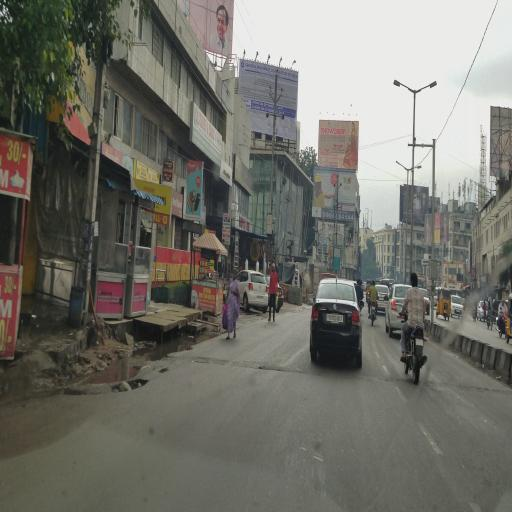street_light_0: (412, 79, 444, 107), (389, 72, 413, 98), (388, 156, 406, 176), (406, 160, 429, 174)
